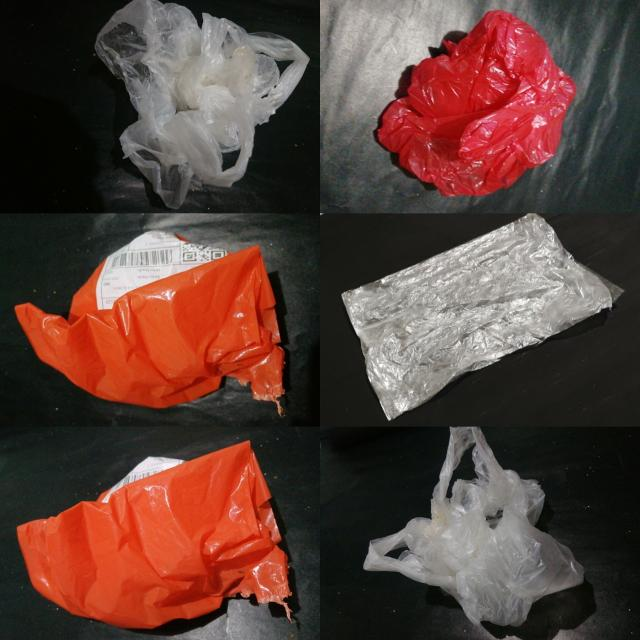Single-layer Plastic: (343, 214, 617, 419), (18, 441, 290, 628), (15, 230, 284, 412), (95, 0, 309, 208), (364, 428, 584, 626), (378, 10, 575, 196)
